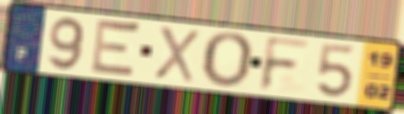5: (315, 41, 356, 99)
9: (46, 15, 87, 72)
E: (87, 15, 144, 82)
F: (256, 34, 314, 94)
O: (200, 30, 257, 91)
X: (152, 24, 201, 85)
